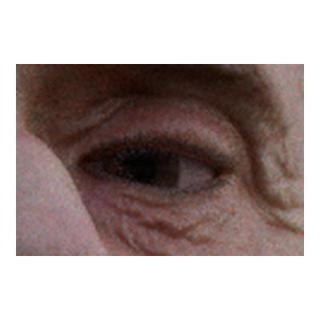pupil: (124, 154, 155, 185)
